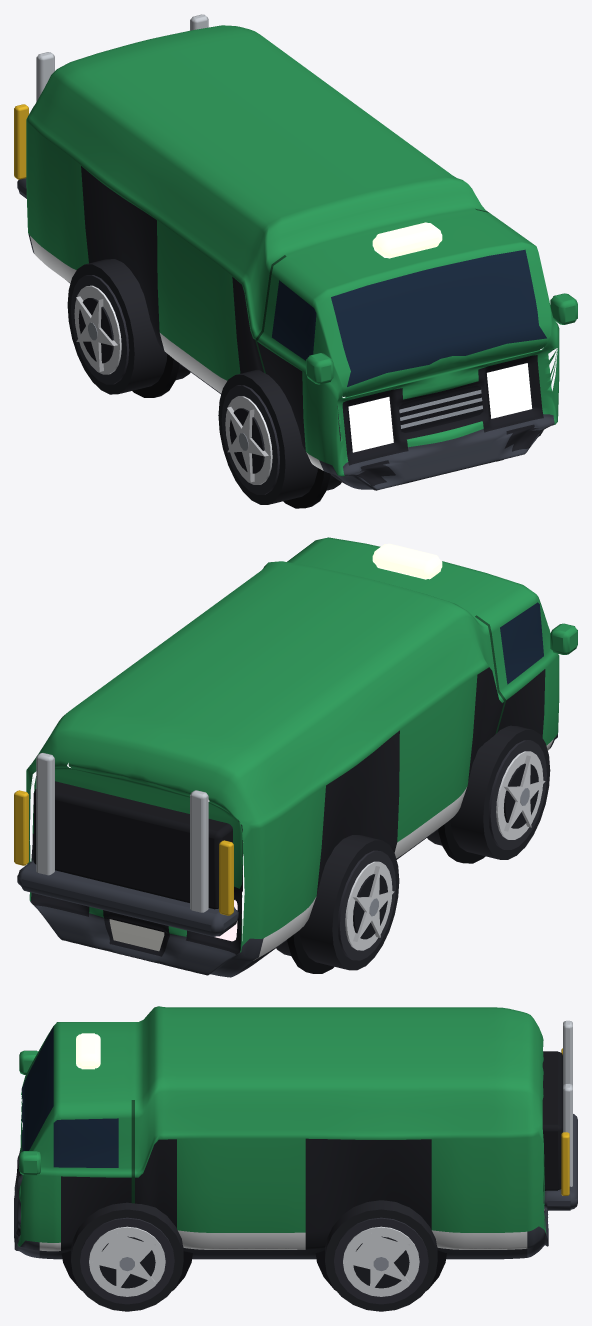
Rendered from garbage_truck.glb.
3 renders of one model, top to bottom at view 1: azimuth 30°, elevation 25°; view 2: azimuth 150°, elevation 25°; view 3: azimuth 270°, elevation 25°, orthographic. The views are drawn at different scales.
Visible parts, largest first — view 1: body, wheel_rl, wheel_fl; view 2: body, wheel_rl, wheel_fl; view 3: body, wheel_rr, wheel_fr.
Part boxes in pixels (bbox=[...]): body: bbox=[14, 14, 577, 508]; wheel_rl: bbox=[67, 259, 190, 394]; wheel_fl: bbox=[218, 370, 341, 504]; body: bbox=[14, 537, 577, 977]; wheel_rl: bbox=[276, 835, 399, 970]; wheel_fl: bbox=[427, 725, 550, 859]; body: bbox=[14, 1006, 577, 1290]; wheel_rr: bbox=[325, 1200, 437, 1311]; wheel_fr: bbox=[71, 1202, 183, 1311].
Bounding box in the file's own units: 2.06 × 1.89 × 4.25.
